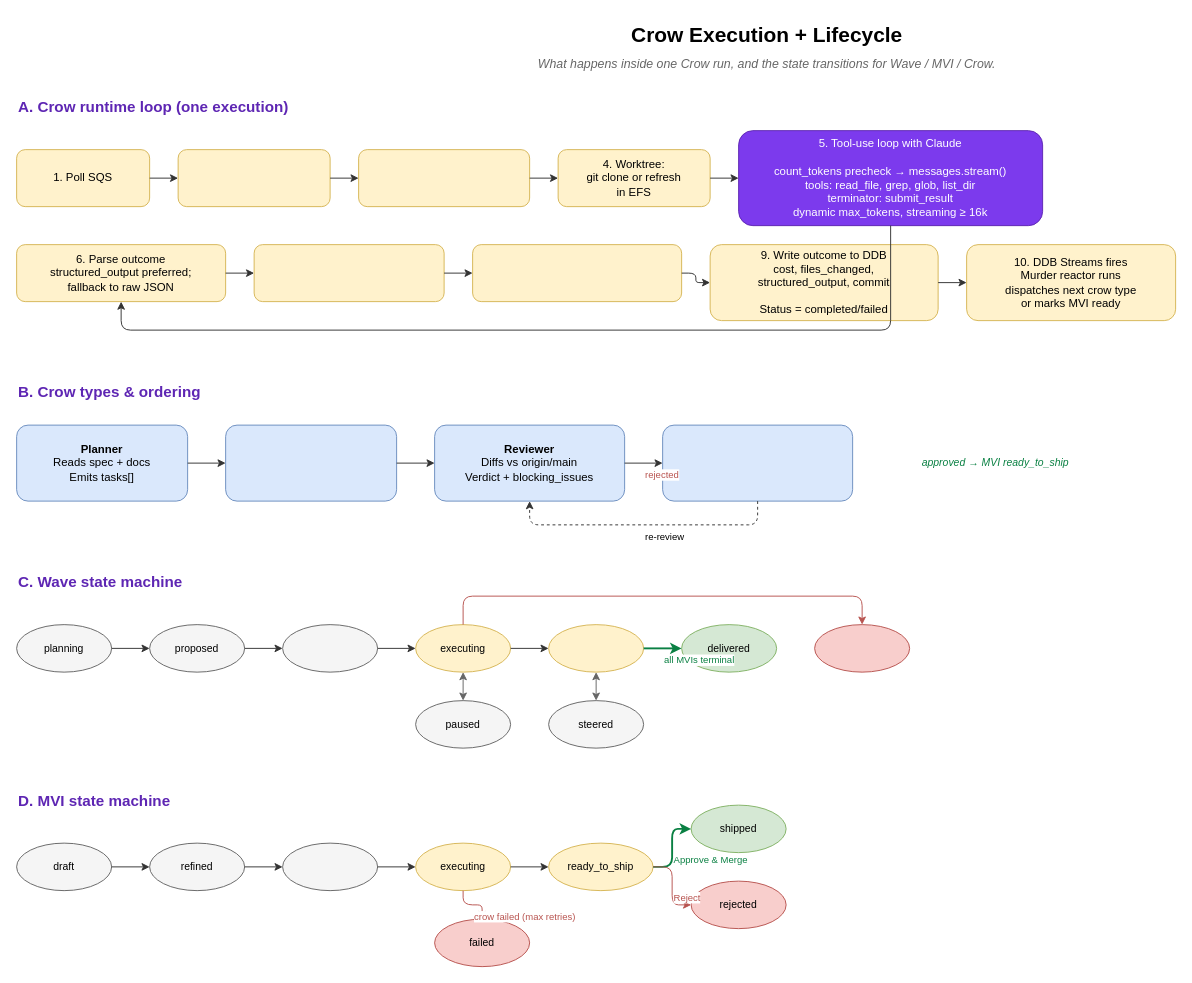
Image size: 1192x983. Some labels were removed from this diagram. Each missing label, with the centre of its shape:
"2. Claim crow row in DDB (conditional put)" goes at pixel 253 178.
"3. Load context docs, prior outcomes, agent memory" goes at pixel 444 178.
"7. Apply changes to worktree (implementer / fixer only)" goes at pixel 348 273.
"8. git commit + push Create PR via GitHub API (first impl/fixer commit only)" goes at pixel 577 273.
"approved" goes at pixel 330 648.
"cancelled" goes at pixel 862 648.
"Fixer Addresses blocking_issues (up to FIX_CYCLE_LIMIT)" goes at pixel 757 462.
"Implementer Bundled-PR mode Writes code, opens PR" goes at pixel 311 462.
"queued" goes at pixel 330 866.
"review" goes at pixel 596 648.
